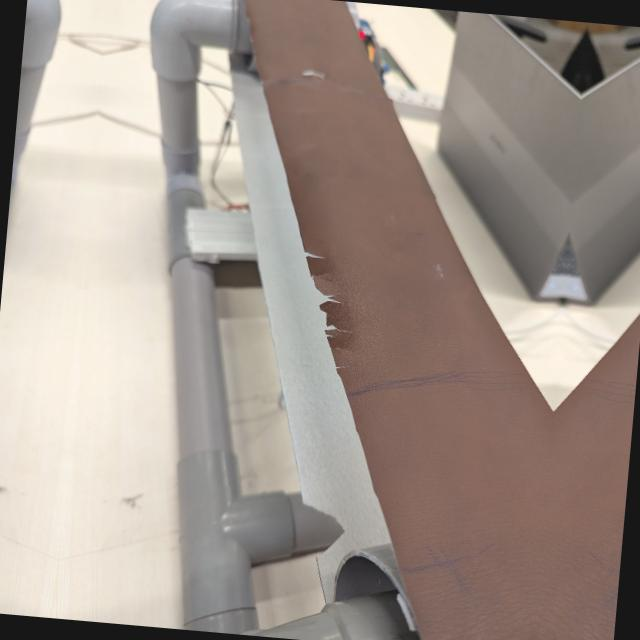edge_damage: (272, 226, 357, 369)
joint_damage: (284, 60, 334, 87)
